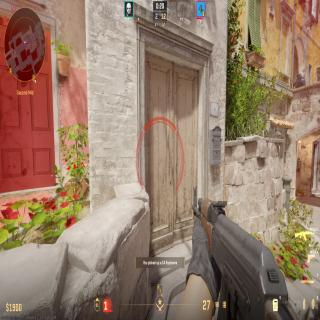CT-Body: (293, 73, 306, 89)
CT-Head: (296, 72, 301, 79)
